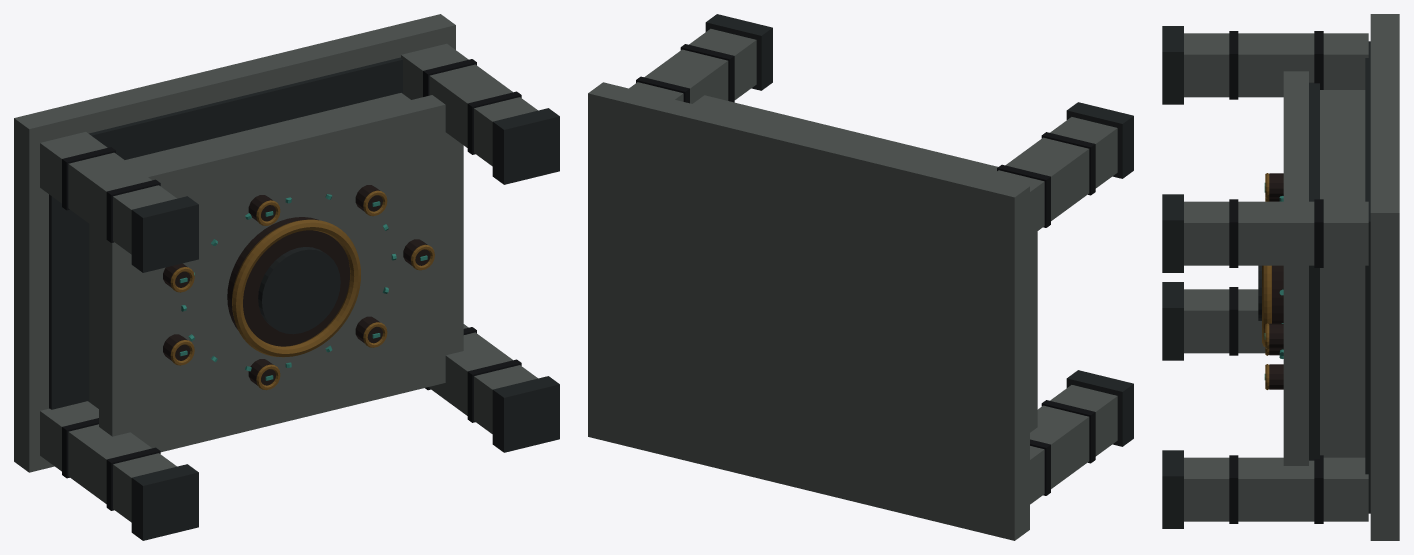
The model's file is SM_SevenBellsShrine_1348.obj.
3 renders of one model, left to right at view 1: azimuth 30°, elevation 25°; view 2: azimuth 150°, elevation 25°; view 3: azimuth 270°, elevation 25°, orthographic. The views are drawn at different scales.
Visible parts, largest first — view 1: Top_Slab, Base_Foundation, Standing_Stones, Base_Recess, Standing_StoneCaps, Ritual_Core, Black_Socket, Pedestal, Forged_StoneStraps, Socket_Band, Seven_Bell_Sockets, Seven_Bell_Bases; view 2: Base_Foundation, Standing_Stones, Standing_StoneCaps, Top_Slab, Forged_StoneStraps; view 3: Standing_Stones, Base_Foundation, Pedestal, Top_Slab, Standing_StoneCaps, Forged_StoneStraps, Inset_Plinth, Base_Recess, Seven_Bell_Sockets, Black_Socket, Socket_Band, Seven_Bell_Bases.
Boxes of the visible parts, x1,y1,x2,y2 form: Top_Slab: [99, 95, 463, 452]; Base_Foundation: [14, 14, 455, 472]; Standing_Stones: [40, 43, 537, 522]; Base_Recess: [49, 57, 402, 409]; Standing_StoneCaps: [131, 108, 559, 540]; Ritual_Core: [258, 247, 340, 334]; Black_Socket: [227, 217, 350, 346]; Pedestal: [89, 93, 410, 408]; Forged_StoneStraps: [62, 59, 521, 510]; Socket_Band: [232, 219, 360, 357]; Seven_Bell_Sockets: [163, 185, 430, 385]; Seven_Bell_Bases: [170, 190, 434, 390]; Base_Foundation: [588, 82, 1029, 540]; Standing_Stones: [629, 28, 1117, 504]; Standing_StoneCaps: [705, 14, 1133, 446]; Top_Slab: [693, 95, 1037, 432]; Forged_StoneStraps: [636, 44, 1095, 495]; Standing_Stones: [1184, 33, 1368, 521]; Base_Foundation: [1370, 14, 1399, 540]; Pedestal: [1320, 90, 1365, 457]; Top_Slab: [1283, 71, 1308, 465]; Standing_StoneCaps: [1162, 26, 1183, 528]; Forged_StoneStraps: [1229, 31, 1323, 523]; Inset_Plinth: [1309, 82, 1319, 460]; Base_Recess: [1365, 41, 1370, 513]; Seven_Bell_Sockets: [1269, 173, 1283, 389]; Black_Socket: [1272, 265, 1283, 323]; Socket_Band: [1262, 265, 1271, 346]; Seven_Bell_Bases: [1265, 173, 1269, 389].
Size of the model in its own units: 260 by 200 by 131.
